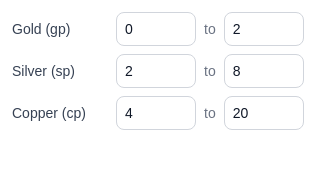
it: CoinRangeEditor › clearing a field keeps the prior value and restores it on blur
Clear the number field named "sp max" at coordinates (264, 71), box [224,54,304,88]
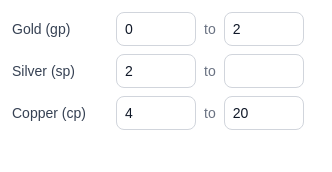
Leave the number field named "sp max", box [224,54,304,88]
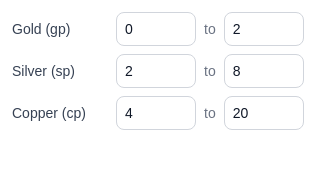
Check: the number field named "sp max" holds "8", box [224,54,304,88]
